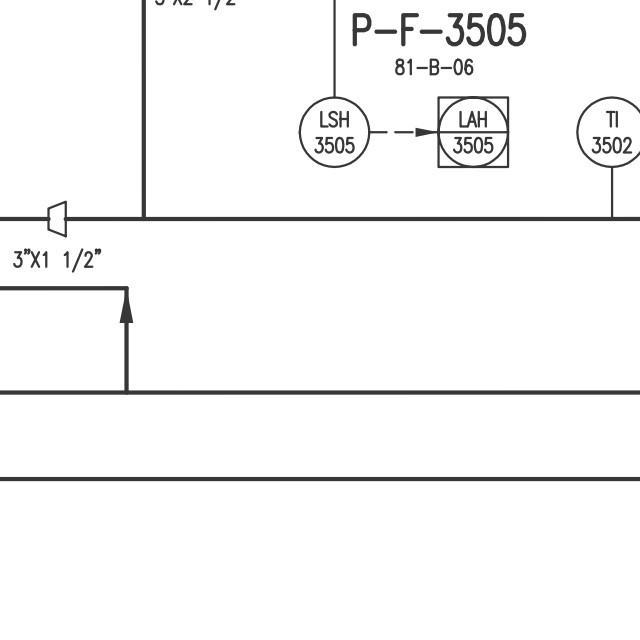SP: (41, 197, 70, 237)
